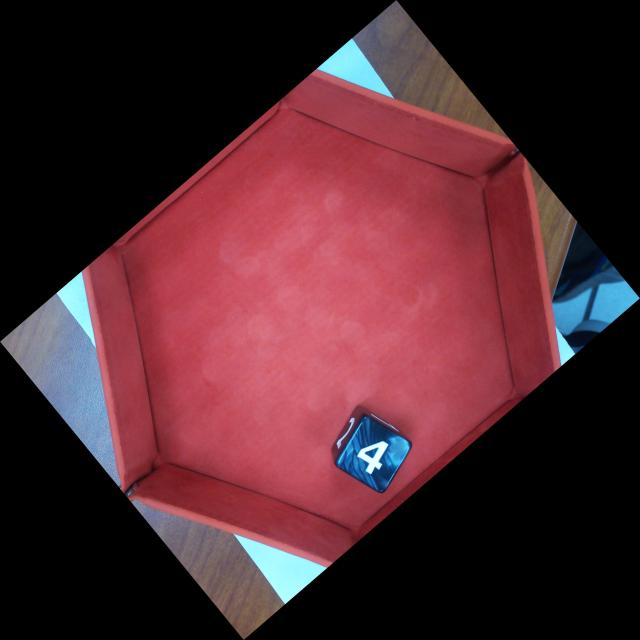dice: (335, 415, 413, 493)
